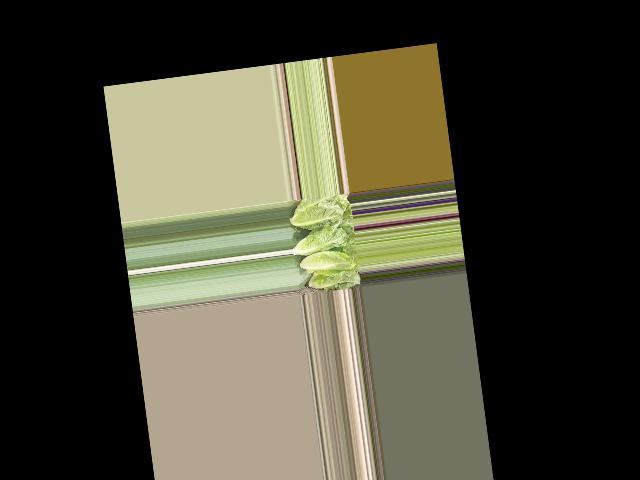lettuce: (309, 268, 360, 289)
